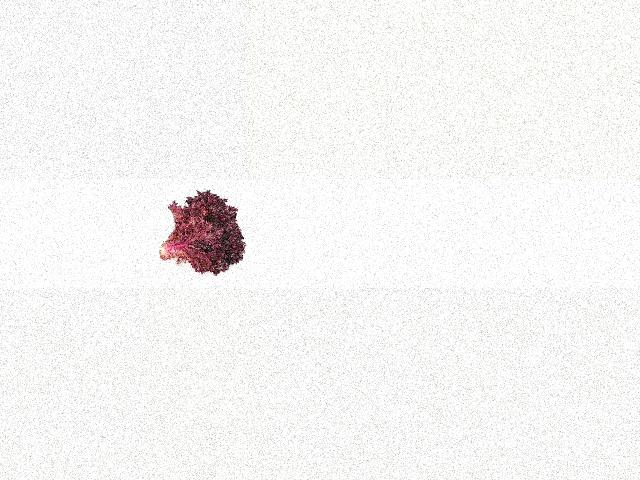lettuce: (150, 188, 250, 271)
